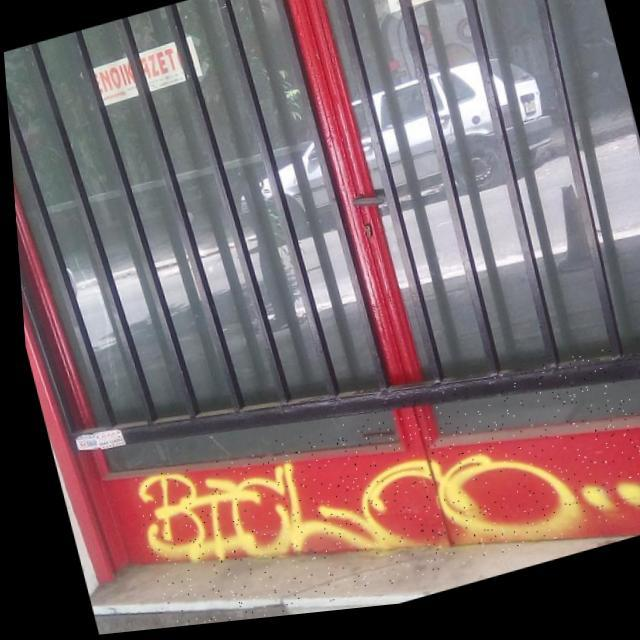-: (117, 352, 640, 632)
